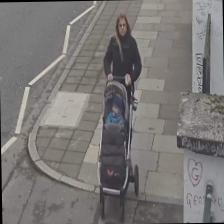person: (101, 10, 142, 164), (105, 88, 124, 154)
